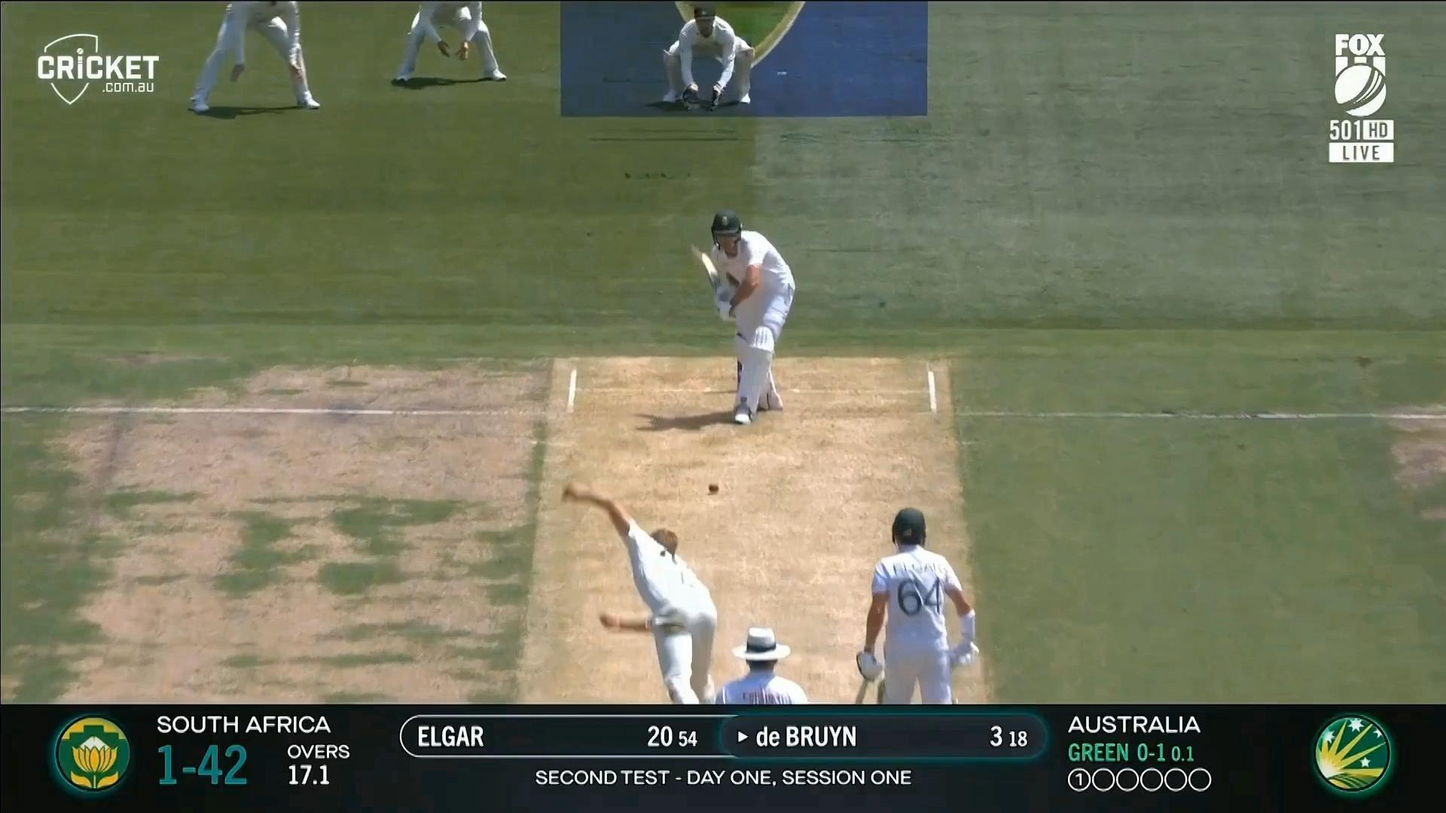BM 1: (688, 209, 796, 425)
BO: (561, 482, 717, 704)
